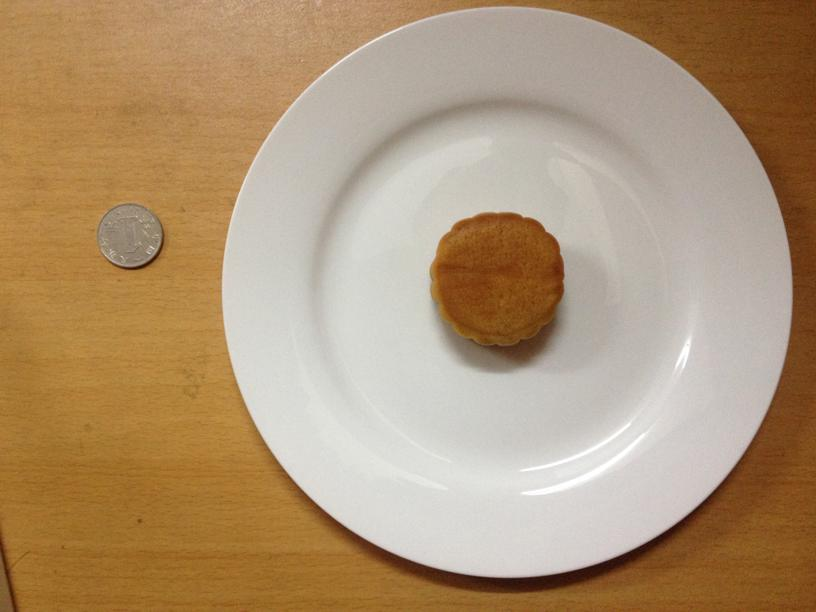coin: (98, 202, 162, 268)
mooncake: (431, 210, 566, 345)
